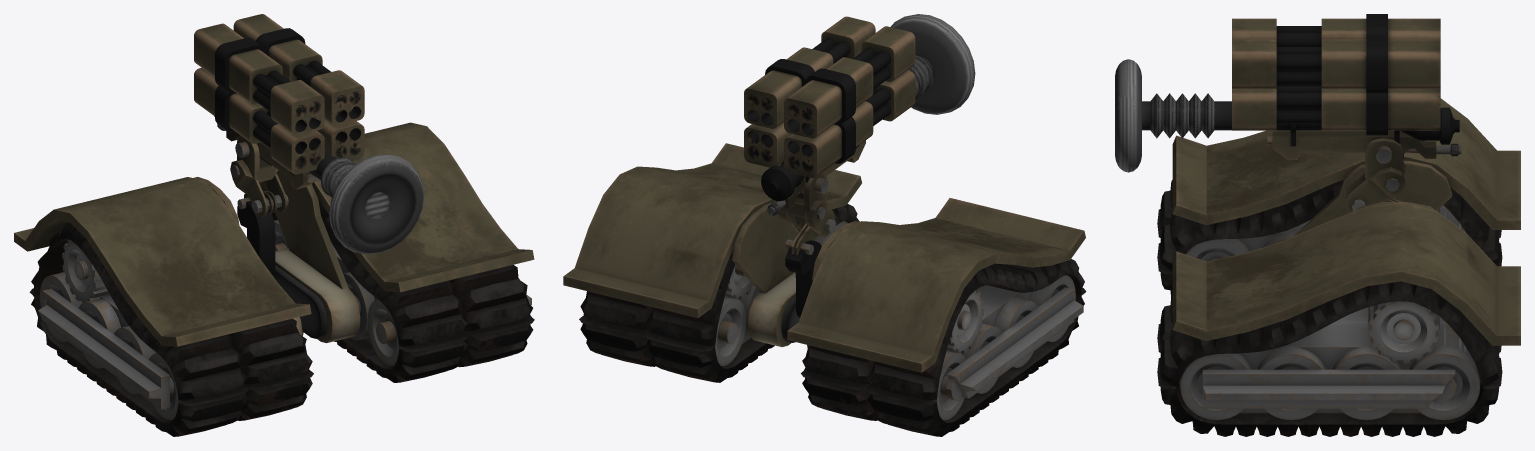
File: Boss2conceptphase2.fbx
3 views of the same model, side by side, from view 1: azimuth 30°, elevation 25°; view 2: azimuth 150°, elevation 25°; view 3: azimuth 270°, elevation 25° (orthographic). The views are drawn at different scales.
Parts seen in each view (by area): view 1: Base; view 2: Base; view 3: Base.
Part boxes in pixels (<box>): Base: <box>14,14,534,436</box>; Base: <box>563,14,1086,436</box>; Base: <box>1115,14,1520,436</box>.
Size of the model in its own units: 23.2 by 17.34 by 20.
